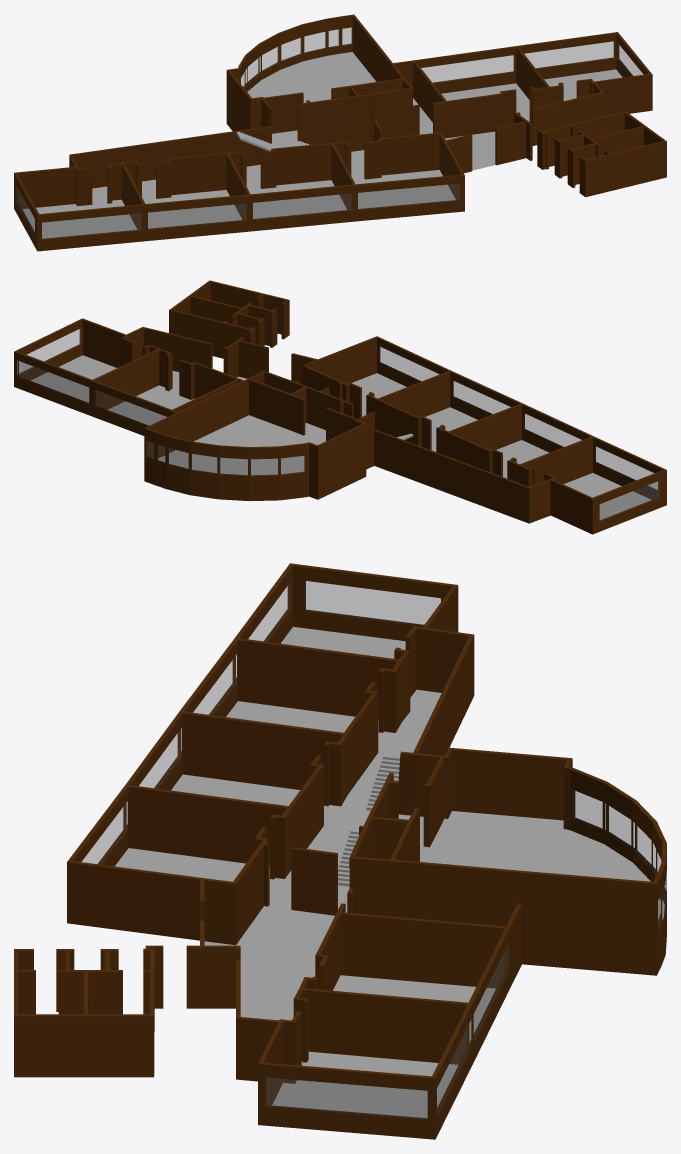
3 views of the same model, one above another, from view 1: azimuth 30°, elevation 25°; view 2: azimuth 150°, elevation 25°; view 3: azimuth 270°, elevation 25° (orthographic). The views are drawn at different scales.
Parts seen in each view (by area): view 1: Plane.016, Plane.019, Plane.018; view 2: Plane.016, Plane.019, Plane.018; view 3: Plane.016, Plane.019, Plane.018.
Boxes of the visible parts, box(x1,y1,x2,y2) form: Plane.016: box(14, 14, 666, 251); Plane.019: box(22, 69, 622, 238); Plane.018: box(247, 52, 376, 148); Plane.016: box(14, 280, 666, 534); Plane.019: box(31, 355, 650, 519); Plane.018: box(158, 415, 325, 475); Plane.016: box(14, 563, 666, 1139); Plane.019: box(115, 626, 495, 1117); Plane.018: box(351, 810, 664, 920).
Bounding box in the file's own units: 54.29 × 4.5 × 29.07.
